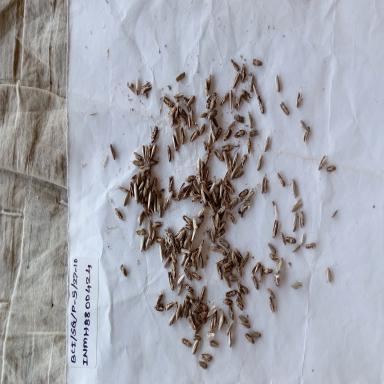pbw: (290, 196, 303, 213), (270, 217, 280, 239), (140, 80, 153, 96), (223, 179, 236, 195), (113, 206, 125, 223), (166, 270, 175, 292), (246, 108, 255, 130), (221, 271, 232, 289), (243, 186, 256, 201), (162, 94, 174, 110), (181, 212, 193, 228), (276, 171, 286, 190), (240, 249, 250, 268), (317, 154, 327, 173), (163, 228, 174, 245), (290, 177, 298, 200), (234, 92, 243, 112), (198, 283, 207, 303), (150, 124, 159, 144), (218, 307, 228, 325), (219, 90, 229, 108), (182, 96, 192, 114), (279, 100, 290, 116), (228, 195, 239, 211), (175, 70, 186, 86), (215, 261, 223, 283), (298, 118, 309, 134), (207, 226, 216, 245), (266, 241, 278, 255), (166, 143, 174, 164), (185, 94, 196, 109), (244, 332, 255, 347), (222, 186, 231, 204), (239, 152, 248, 170), (182, 185, 192, 201), (251, 259, 261, 275), (197, 238, 205, 258), (230, 56, 240, 72), (272, 272, 282, 288), (216, 219, 226, 235), (162, 254, 172, 270), (240, 88, 250, 104), (303, 125, 311, 145), (256, 153, 264, 173), (268, 295, 276, 315), (274, 73, 282, 93), (209, 95, 219, 111), (218, 237, 230, 250), (233, 128, 246, 140), (206, 108, 218, 121), (210, 122, 217, 144), (291, 211, 298, 233), (234, 298, 245, 312), (182, 292, 189, 314), (158, 242, 165, 264), (206, 90, 217, 104), (226, 211, 237, 225), (166, 105, 177, 119), (275, 256, 284, 273), (119, 262, 128, 279), (167, 174, 175, 193), (136, 209, 144, 228), (122, 188, 130, 207), (148, 227, 156, 246), (190, 253, 198, 272), (296, 90, 304, 109), (214, 147, 224, 162), (152, 184, 162, 199), (264, 132, 271, 153), (248, 73, 255, 94), (139, 233, 146, 254), (179, 336, 191, 348), (232, 72, 240, 90), (251, 57, 263, 69), (150, 142, 158, 160), (233, 113, 245, 125), (156, 288, 165, 304), (183, 230, 191, 248), (218, 253, 230, 265), (224, 288, 236, 300), (210, 243, 222, 255), (192, 338, 200, 356), (191, 269, 202, 282), (200, 352, 213, 363), (290, 280, 304, 290), (266, 286, 276, 300), (109, 142, 116, 162), (220, 143, 234, 153), (227, 154, 234, 174), (217, 312, 224, 332), (222, 150, 229, 170), (207, 304, 217, 318), (189, 128, 199, 142), (228, 88, 234, 111), (235, 280, 243, 297), (168, 310, 176, 327), (183, 266, 192, 281), (223, 128, 232, 143), (201, 182, 210, 197), (171, 133, 178, 152), (214, 212, 221, 231), (231, 151, 238, 170), (188, 307, 195, 326), (240, 61, 246, 83), (174, 230, 185, 242), (285, 234, 297, 245), (268, 252, 280, 263), (196, 155, 202, 177), (179, 124, 185, 146), (184, 282, 195, 294), (258, 95, 264, 117), (234, 168, 245, 180), (135, 226, 147, 237), (178, 113, 188, 126), (216, 243, 226, 256), (304, 240, 317, 250), (325, 164, 338, 174), (175, 302, 183, 318), (216, 124, 224, 140), (163, 243, 171, 259), (227, 305, 235, 321), (208, 316, 216, 332), (178, 180, 186, 196), (230, 164, 238, 180), (226, 320, 234, 336), (193, 322, 202, 336), (234, 248, 243, 262), (198, 252, 205, 270), (150, 220, 164, 229), (207, 70, 213, 91), (207, 129, 214, 147), (130, 159, 144, 168), (151, 176, 158, 194), (299, 209, 305, 230), (135, 169, 142, 187), (220, 187, 226, 208), (238, 313, 249, 324), (204, 330, 215, 341), (117, 183, 128, 194), (238, 187, 249, 198), (222, 297, 234, 307), (137, 186, 143, 206), (326, 266, 332, 286), (175, 274, 185, 286), (142, 164, 152, 176), (133, 182, 139, 202), (262, 174, 268, 194), (208, 339, 220, 349), (180, 251, 188, 266), (170, 110, 176, 130), (258, 264, 264, 284), (216, 204, 226, 216), (147, 190, 153, 210), (174, 128, 180, 148), (186, 112, 192, 132), (246, 127, 258, 137), (240, 284, 250, 296), (196, 176, 206, 188), (184, 173, 196, 183), (252, 84, 259, 101), (128, 181, 135, 198), (191, 214, 198, 231), (203, 166, 210, 183), (157, 202, 164, 219), (249, 329, 262, 338), (170, 251, 179, 264), (197, 206, 206, 219), (145, 170, 151, 189), (280, 231, 287, 247), (197, 214, 205, 228), (207, 199, 215, 213), (212, 190, 219, 206), (252, 275, 259, 291), (192, 180, 200, 194), (143, 202, 151, 216), (223, 259, 233, 270), (173, 91, 184, 101), (155, 234, 165, 245), (204, 76, 209, 98), (198, 359, 208, 370), (132, 150, 143, 160), (228, 328, 233, 350), (164, 300, 174, 311), (210, 214, 216, 232), (235, 291, 244, 303), (152, 302, 164, 311), (144, 234, 150, 252), (213, 310, 219, 328), (230, 248, 236, 266), (171, 261, 177, 279), (189, 108, 195, 126), (199, 122, 206, 137), (163, 196, 170, 211), (152, 194, 157, 215), (208, 180, 215, 195), (183, 254, 190, 269), (143, 181, 149, 198), (246, 136, 251, 156), (144, 144, 149, 164), (196, 314, 206, 324), (199, 302, 209, 312), (147, 218, 152, 238), (185, 298, 190, 318), (188, 292, 198, 302), (240, 320, 250, 330), (191, 195, 201, 205), (141, 144, 146, 164), (213, 177, 223, 187), (130, 172, 140, 182), (292, 243, 301, 254), (236, 265, 243, 279), (167, 188, 174, 202), (203, 152, 210, 166), (300, 230, 306, 246), (331, 208, 339, 220), (173, 234, 179, 250), (176, 282, 182, 298), (191, 246, 199, 258), (202, 139, 209, 152), (189, 298, 198, 308), (178, 106, 187, 116), (228, 274, 237, 284), (218, 182, 223, 200), (263, 266, 274, 274), (198, 311, 209, 319), (191, 317, 197, 331), (174, 100, 178, 121), (172, 193, 181, 202), (260, 175, 264, 195), (228, 120, 236, 130), (192, 307, 202, 315), (180, 247, 190, 255), (150, 159, 160, 167), (212, 115, 218, 128), (138, 179, 144, 192), (200, 160, 204, 178), (204, 103, 214, 110), (192, 334, 202, 341), (200, 110, 208, 118)
